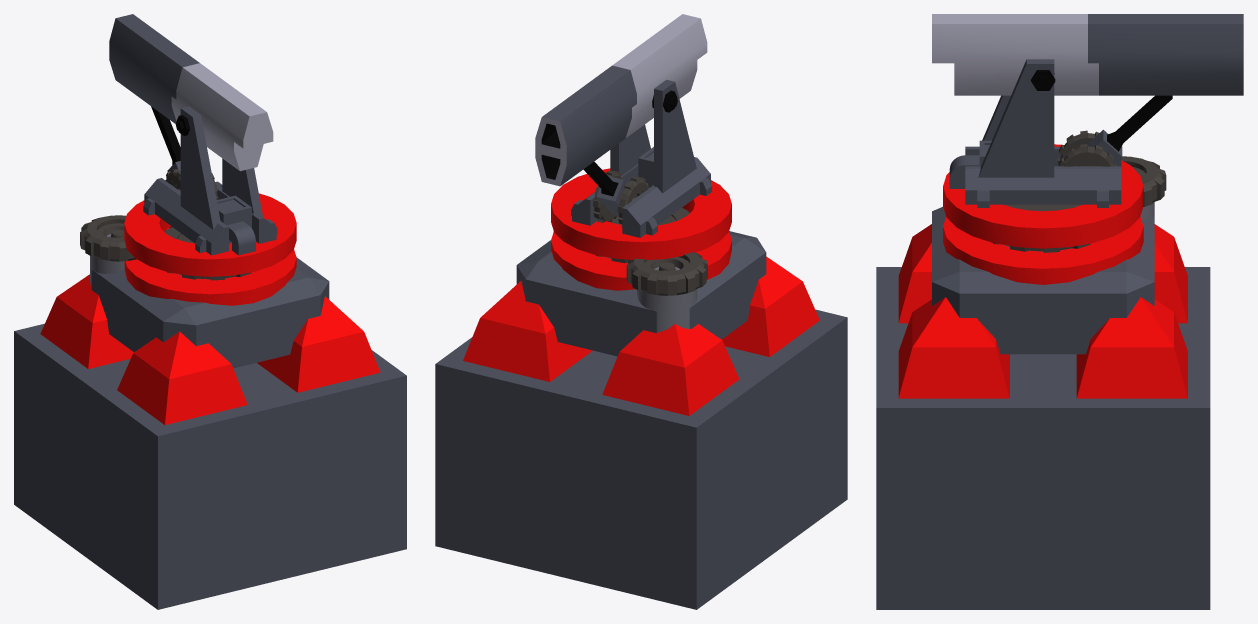
Rendered from railgun.fbx.
3 renders of one model, left to right at view 1: azimuth 30°, elevation 25°; view 2: azimuth 150°, elevation 25°; view 3: azimuth 270°, elevation 25°, orthographic. The views are drawn at different scales.
Visible parts, largest first — view 1: block_default_35, block_rounded_7, engine_barrelTop_26, roof_point_divided_11, cylinder_hollow_20, roof_point_divided_12, cylinder_hollow_16, roof_point_divided_14, wing_endLong_27, engine_barrelTop_28, detail_bumper_23, wheel_dirt_18 (+4 smaller); view 2: block_default_35, block_rounded_7, engine_barrelTop_26, roof_point_divided_14, cylinder_hollow_20, roof_point_divided_13, roof_point_divided_11, engine_barrelTop_28, cylinder_hollow_16, wing_endLong_27, detail_bumper_23, wheel_dirt_18 (+5 smaller); view 3: block_default_35, engine_barrelTop_26, block_rounded_7, roof_point_divided_13, roof_point_divided_12, engine_barrelTop_28, cylinder_hollow_20, cylinder_hollow_16, wing_endLong_24, detail_bumper_22, roof_point_divided_14, roof_point_divided_11 (+5 smaller).
Boxes of the visible parts, x1=… form: block_default_35: x1=14, y1=323, x2=406, y2=609; block_rounded_7: x1=91, y1=257, x2=329, y2=368; engine_barrelTop_26: x1=109, y1=14, x2=273, y2=148; roof_point_divided_11: x1=117, y1=331, x2=247, y2=424; cylinder_hollow_20: x1=124, y1=193, x2=296, y2=276; roof_point_divided_12: x1=257, y1=296, x2=380, y2=392; cylinder_hollow_16: x1=124, y1=228, x2=296, y2=305; roof_point_divided_14: x1=40, y1=274, x2=133, y2=368; wing_endLong_27: x1=180, y1=106, x2=220, y2=229; engine_barrelTop_28: x1=109, y1=51, x2=263, y2=171; detail_bumper_23: x1=143, y1=178, x2=228, y2=255; wheel_dirt_18: x1=80, y1=215, x2=136, y2=261; block_default_35: x1=435, y1=309, x2=847, y2=609; block_rounded_7: x1=516, y1=231, x2=766, y2=356; engine_barrelTop_26: x1=535, y1=14, x2=707, y2=155; roof_point_divided_14: x1=602, y1=324, x2=739, y2=415; cylinder_hollow_20: x1=551, y1=168, x2=731, y2=260; roof_point_divided_13: x1=463, y1=281, x2=592, y2=381; roof_point_divided_11: x1=722, y1=256, x2=819, y2=357; engine_barrelTop_28: x1=535, y1=60, x2=697, y2=186; cylinder_hollow_16: x1=551, y1=231, x2=731, y2=290; wing_endLong_27: x1=654, y1=79, x2=696, y2=193; detail_bumper_23: x1=622, y1=157, x2=711, y2=237; wheel_dirt_18: x1=626, y1=252, x2=707, y2=295; block_default_35: x1=876, y1=267, x2=1210, y2=609; engine_barrelTop_26: x1=932, y1=14, x2=1243, y2=63; block_rounded_7: x1=932, y1=207, x2=1154, y2=354; roof_point_divided_13: x1=1076, y1=297, x2=1187, y2=398; roof_point_divided_12: x1=898, y1=297, x2=1009, y2=398; engine_barrelTop_28: x1=954, y1=63, x2=1243, y2=95; cylinder_hollow_20: x1=943, y1=144, x2=1143, y2=248; cylinder_hollow_16: x1=943, y1=217, x2=1143, y2=284; wing_endLong_24: x1=978, y1=59, x2=1054, y2=177; detail_bumper_22: x1=965, y1=166, x2=1121, y2=207; roof_point_divided_14: x1=1154, y1=224, x2=1187, y2=323; roof_point_divided_11: x1=898, y1=224, x2=931, y2=323.
Size of the model in its own units: 30 by 51.56 by 33.
